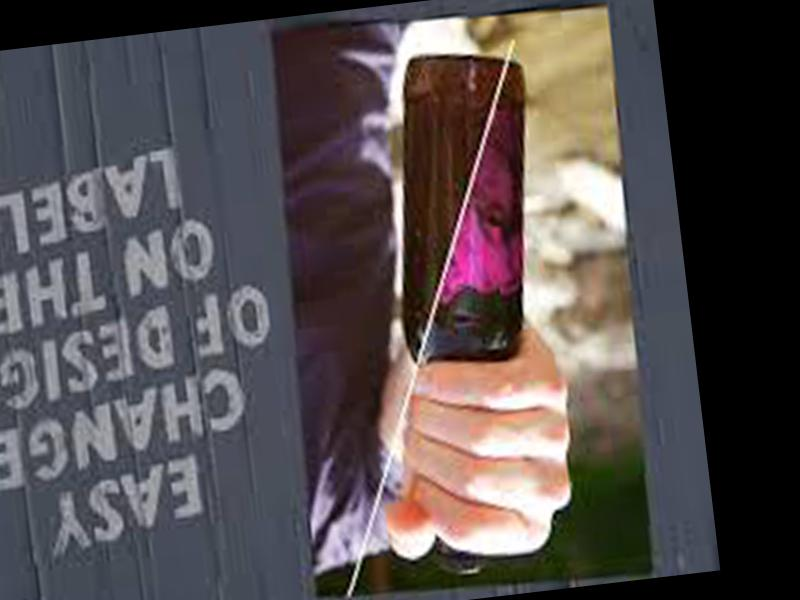Beer: (370, 45, 574, 574)
